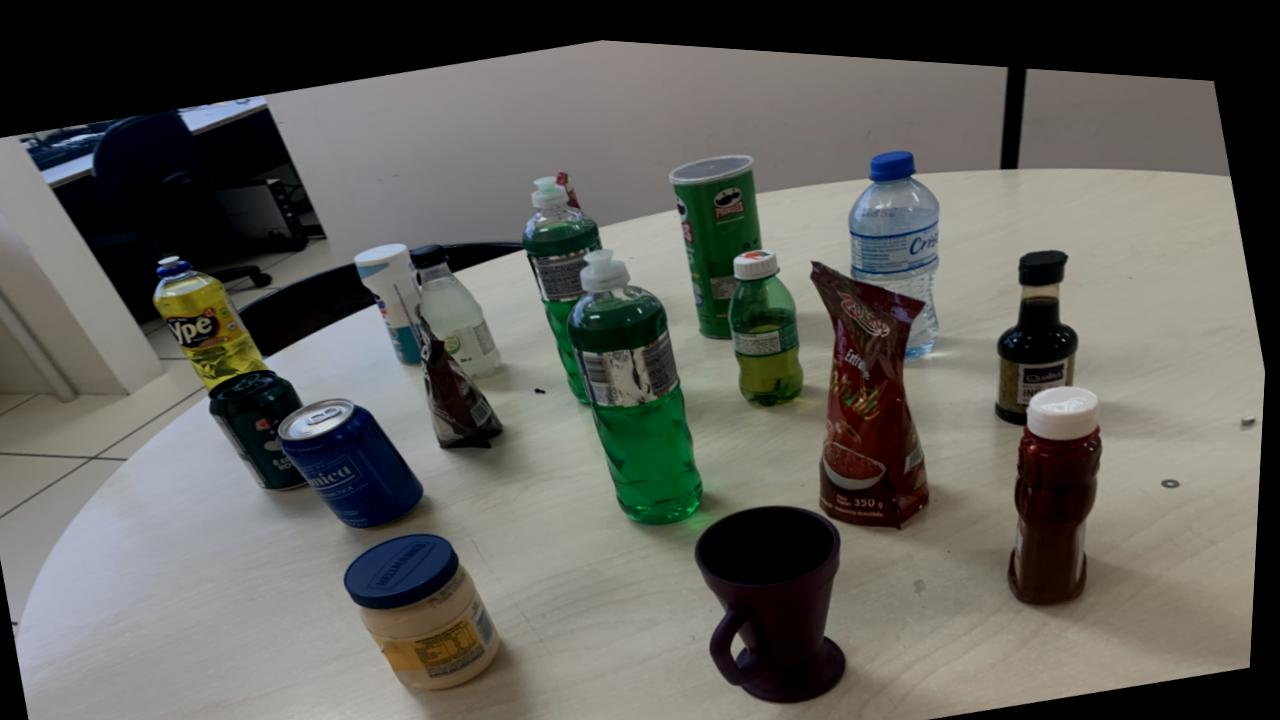Cleaner-Cleanup_Items: (355, 237, 425, 358)
Coffee-Pantry_Items: (418, 300, 506, 442)
Detergent-Cleanup_Items: (568, 240, 708, 514), (524, 168, 604, 393), (155, 253, 271, 386)
English_Sauce-Pantry_Items: (998, 234, 1081, 410)
Guarana-Drinks: (730, 237, 806, 395)
Guarana_Can-Drinks: (213, 365, 311, 486)
Ketchup-Pantry_Items: (1012, 369, 1106, 589)
Mayonnaise-Pantry_Items: (349, 526, 506, 683)
Pringles-Snacks: (671, 144, 763, 328)
Soda-Drinks: (412, 237, 504, 371)
Tomato_Sauce-Pantry_Items: (812, 249, 934, 514), (556, 162, 581, 201)
Tonic-Drinks: (281, 392, 429, 523)
Water_Bottle-Drinks: (849, 138, 942, 345)
